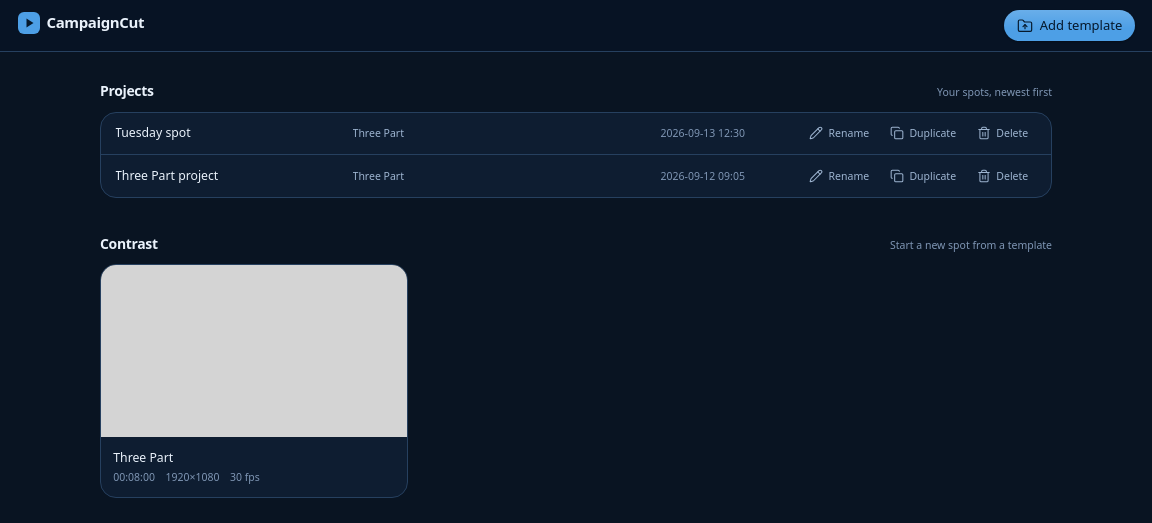
it: Library projects › deletes only after a second, confirming click
Expected: the button "Three Part project" is shown, [115, 167, 338, 184]
Click the button with aria-label "Delete Three Part project".
click(1003, 176)  # box [968, 163, 1037, 188]
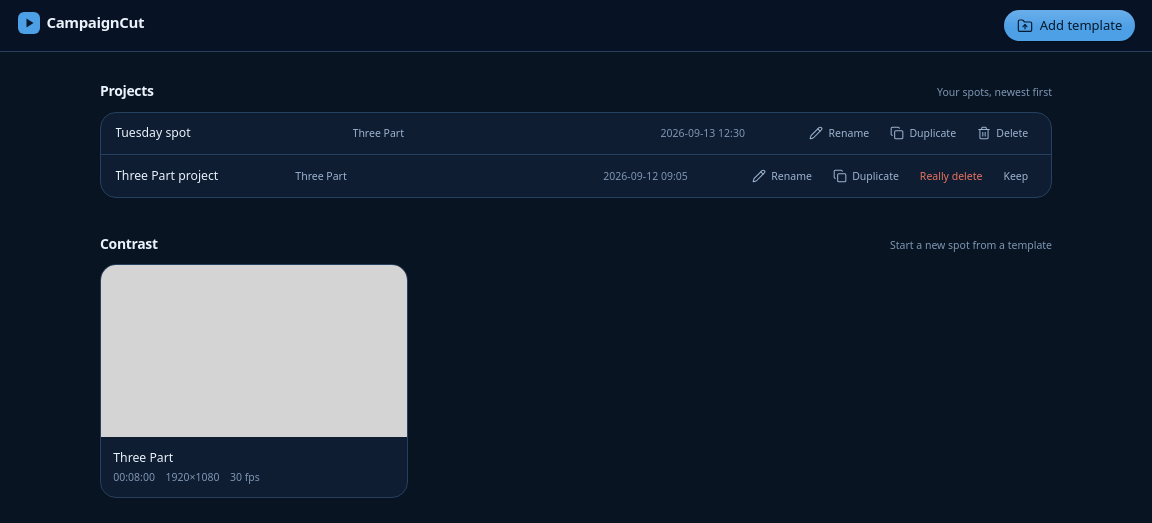
Click the button with aria-label "Confirm delete Three Part project".
click(951, 176)  # box [911, 163, 991, 188]
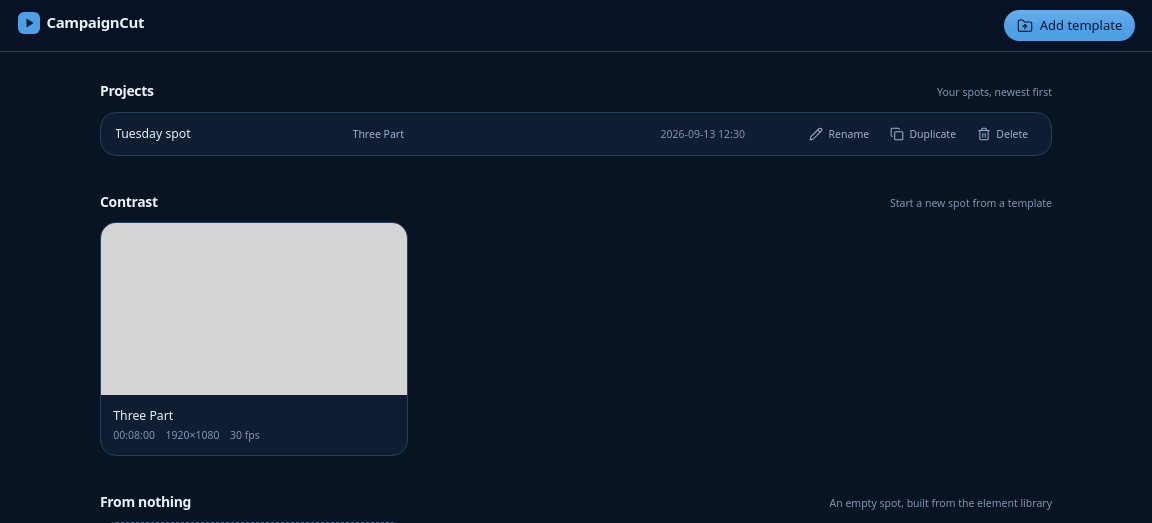
Expected: the button "Tuesday spot" is shown, [115, 125, 338, 142]
Now the button "Three Part project" is gone
